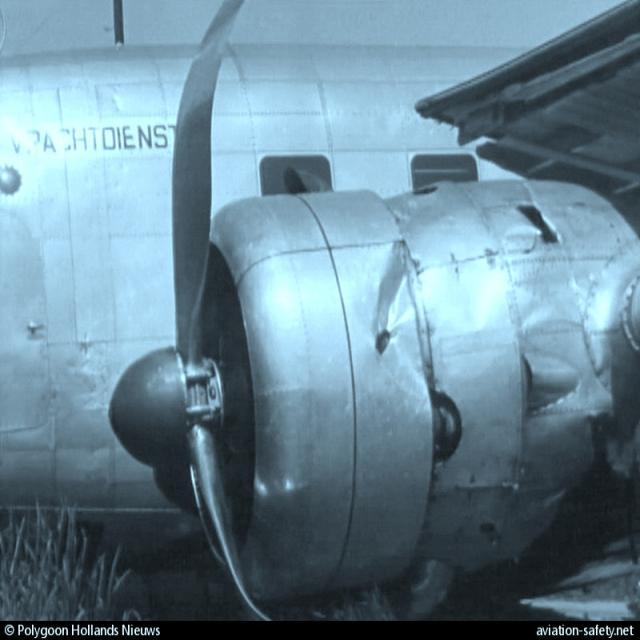dent: (370, 267, 400, 340)
